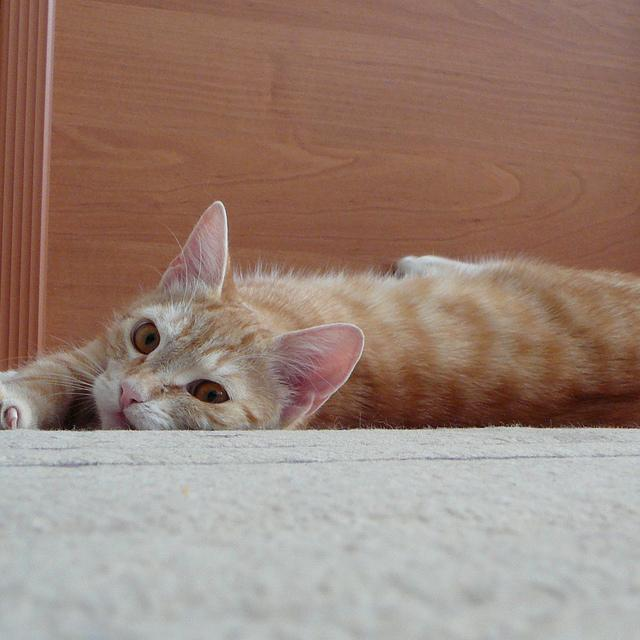animals: (123, 202, 363, 424)
